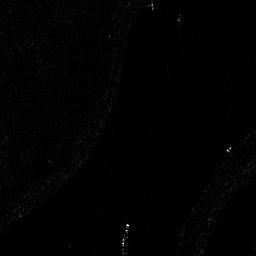ship: (121, 222, 129, 247)
